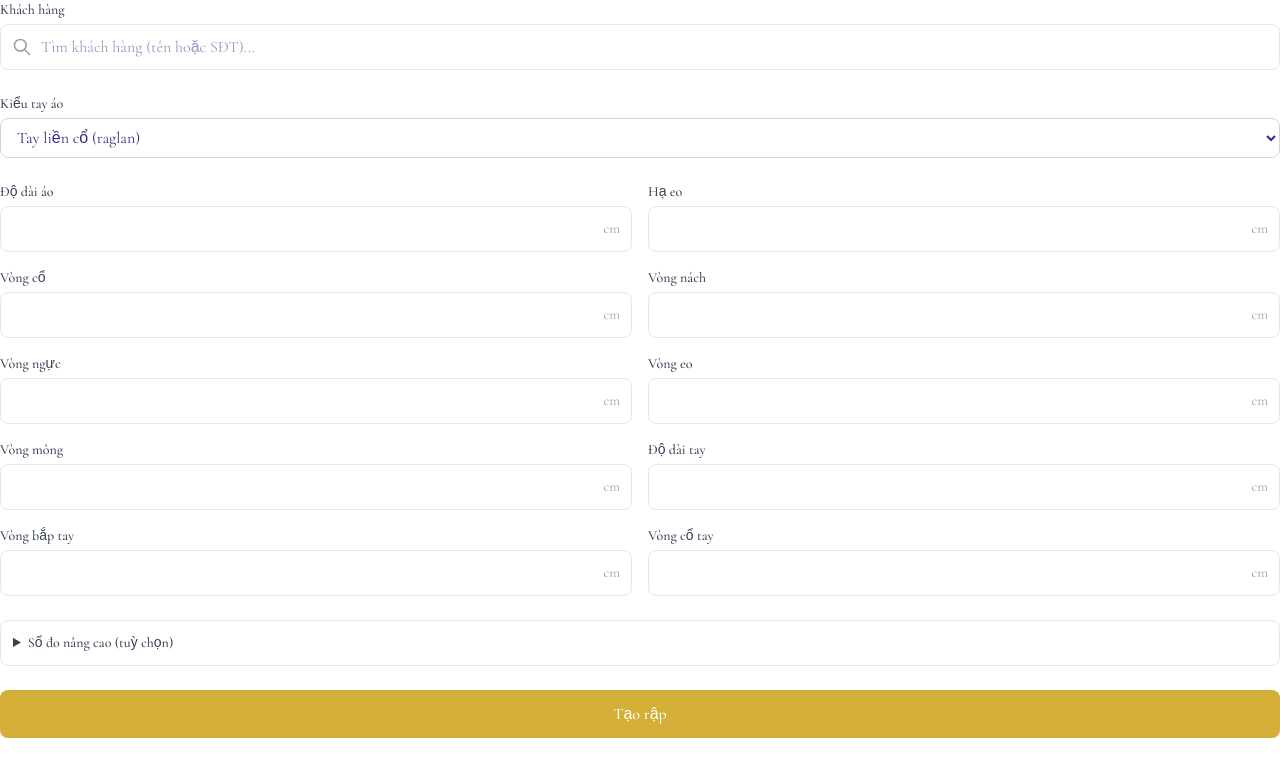
Scenario: PatternSessionCreate Integration › resets form when customer is cleared after auto-fill
// Select customer
Step 1. Type "Nguyễn" into the field with placeholder "Tìm khách hàng (tên hoặc SĐT)..." → (640, 47), box [0,24,1279,70]
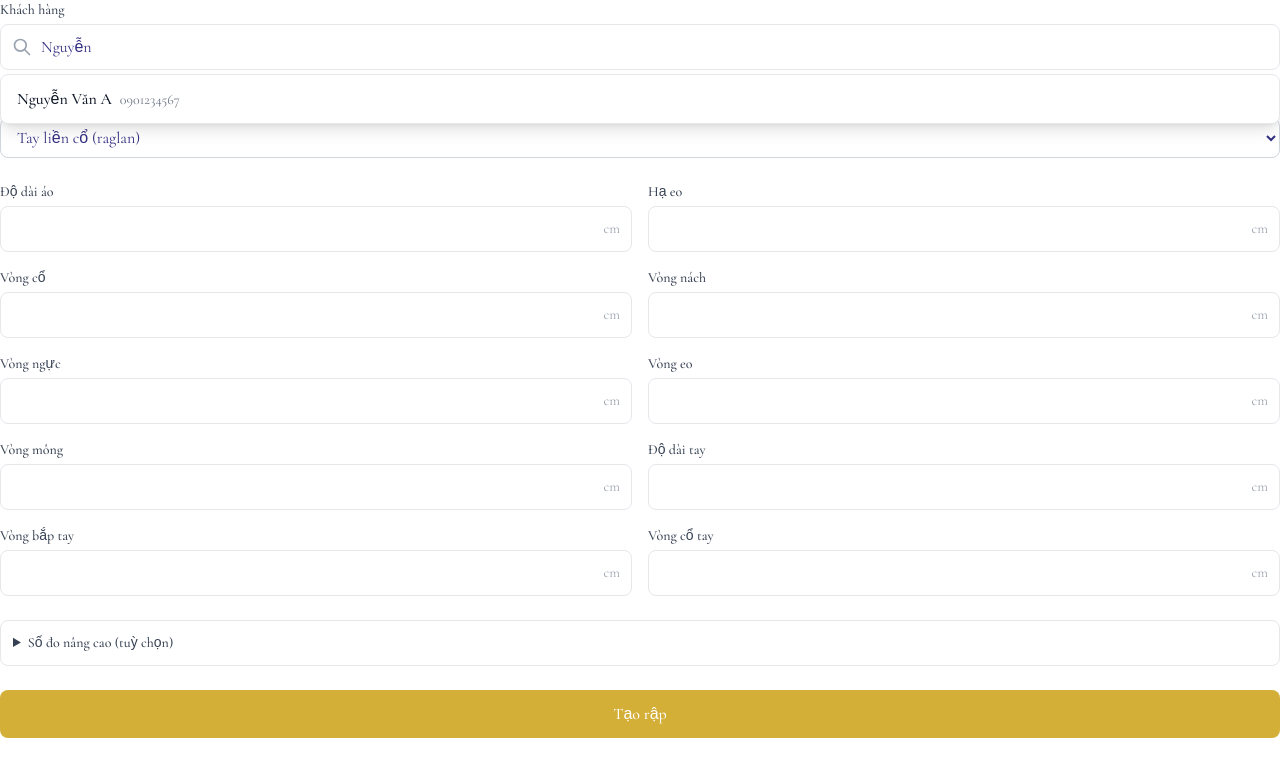
Step 2. Click the option "Nguyễn Văn A0901234567" → click(64, 99), box [1,75,1279,123]
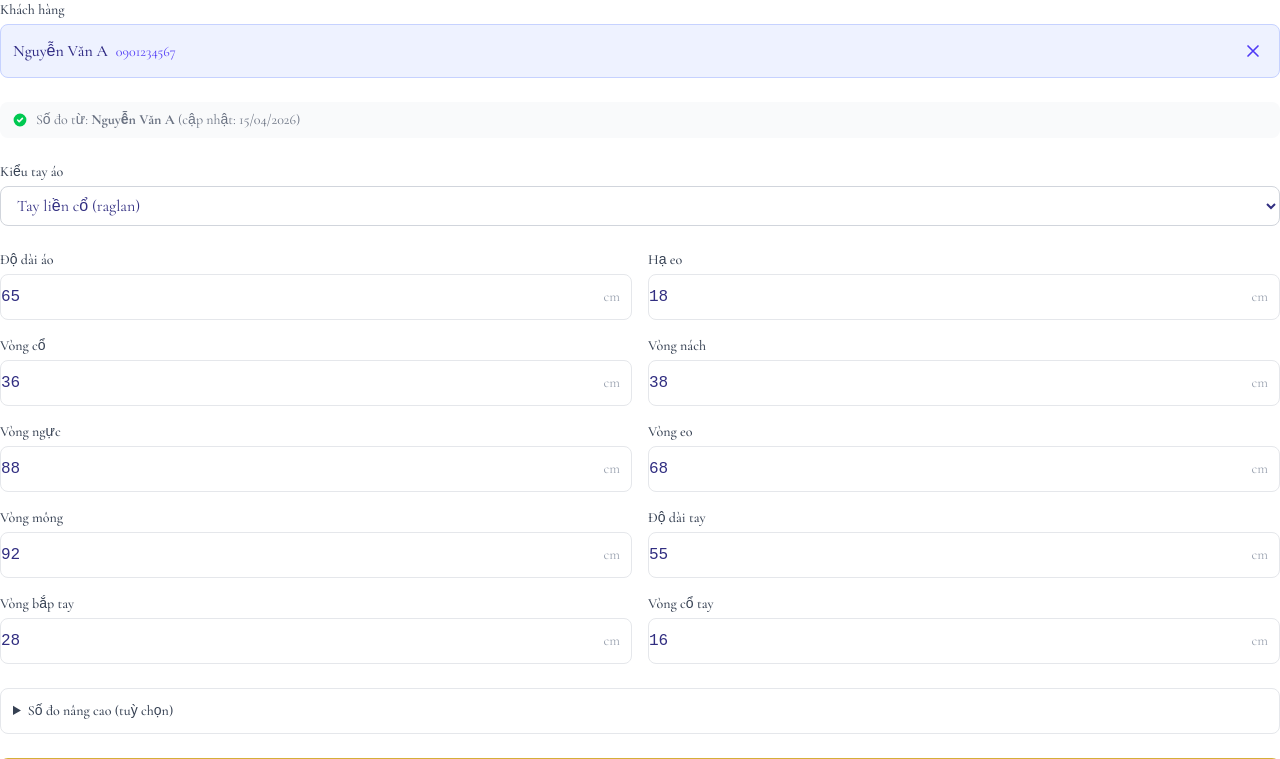
// Clear customer
Step 3. Click the button named "Xóa khách hàng đã chọn" → click(1253, 51), box [1239,37,1267,65]
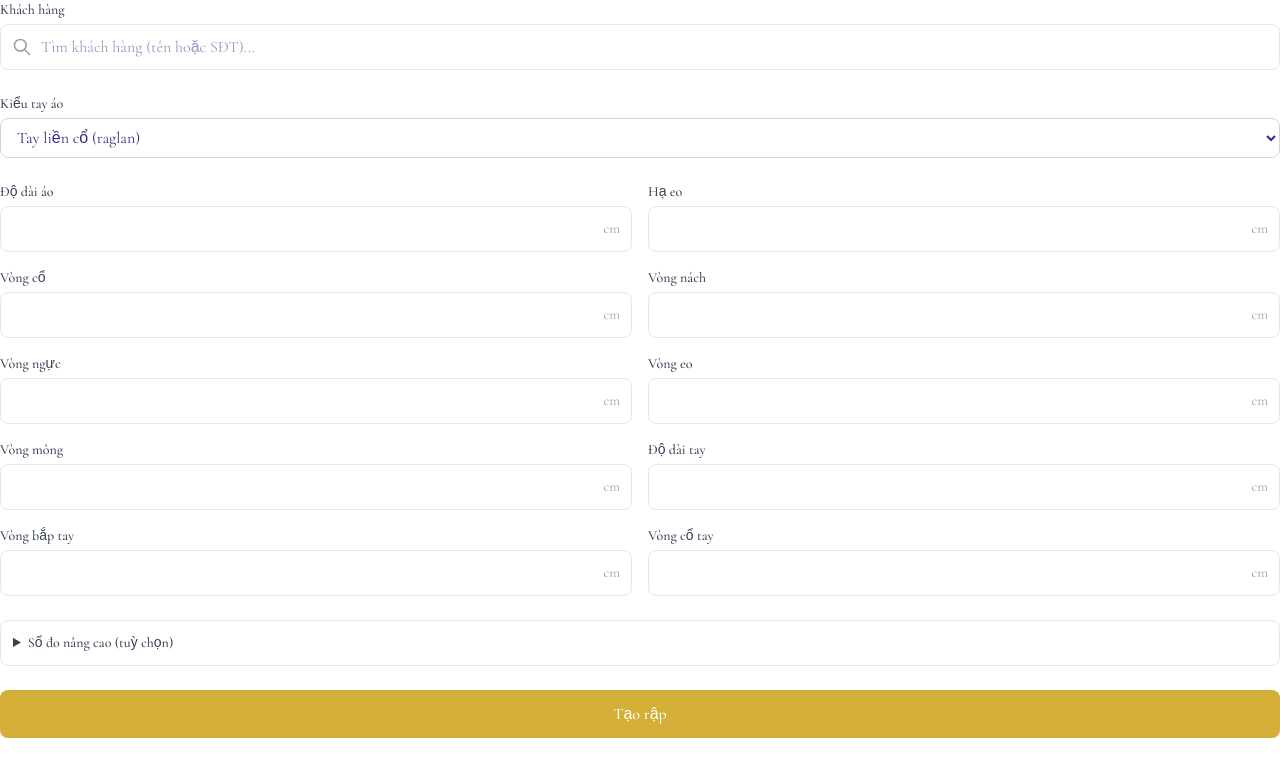
Expected: the field with placeholder "Tìm khách hàng (tên hoặc SĐT)..." is shown, [0,24,1279,70]
Expected: the text "Số đo từ" is gone
